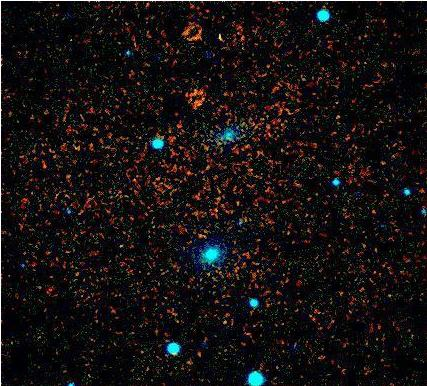star: (204, 306, 234, 336)
